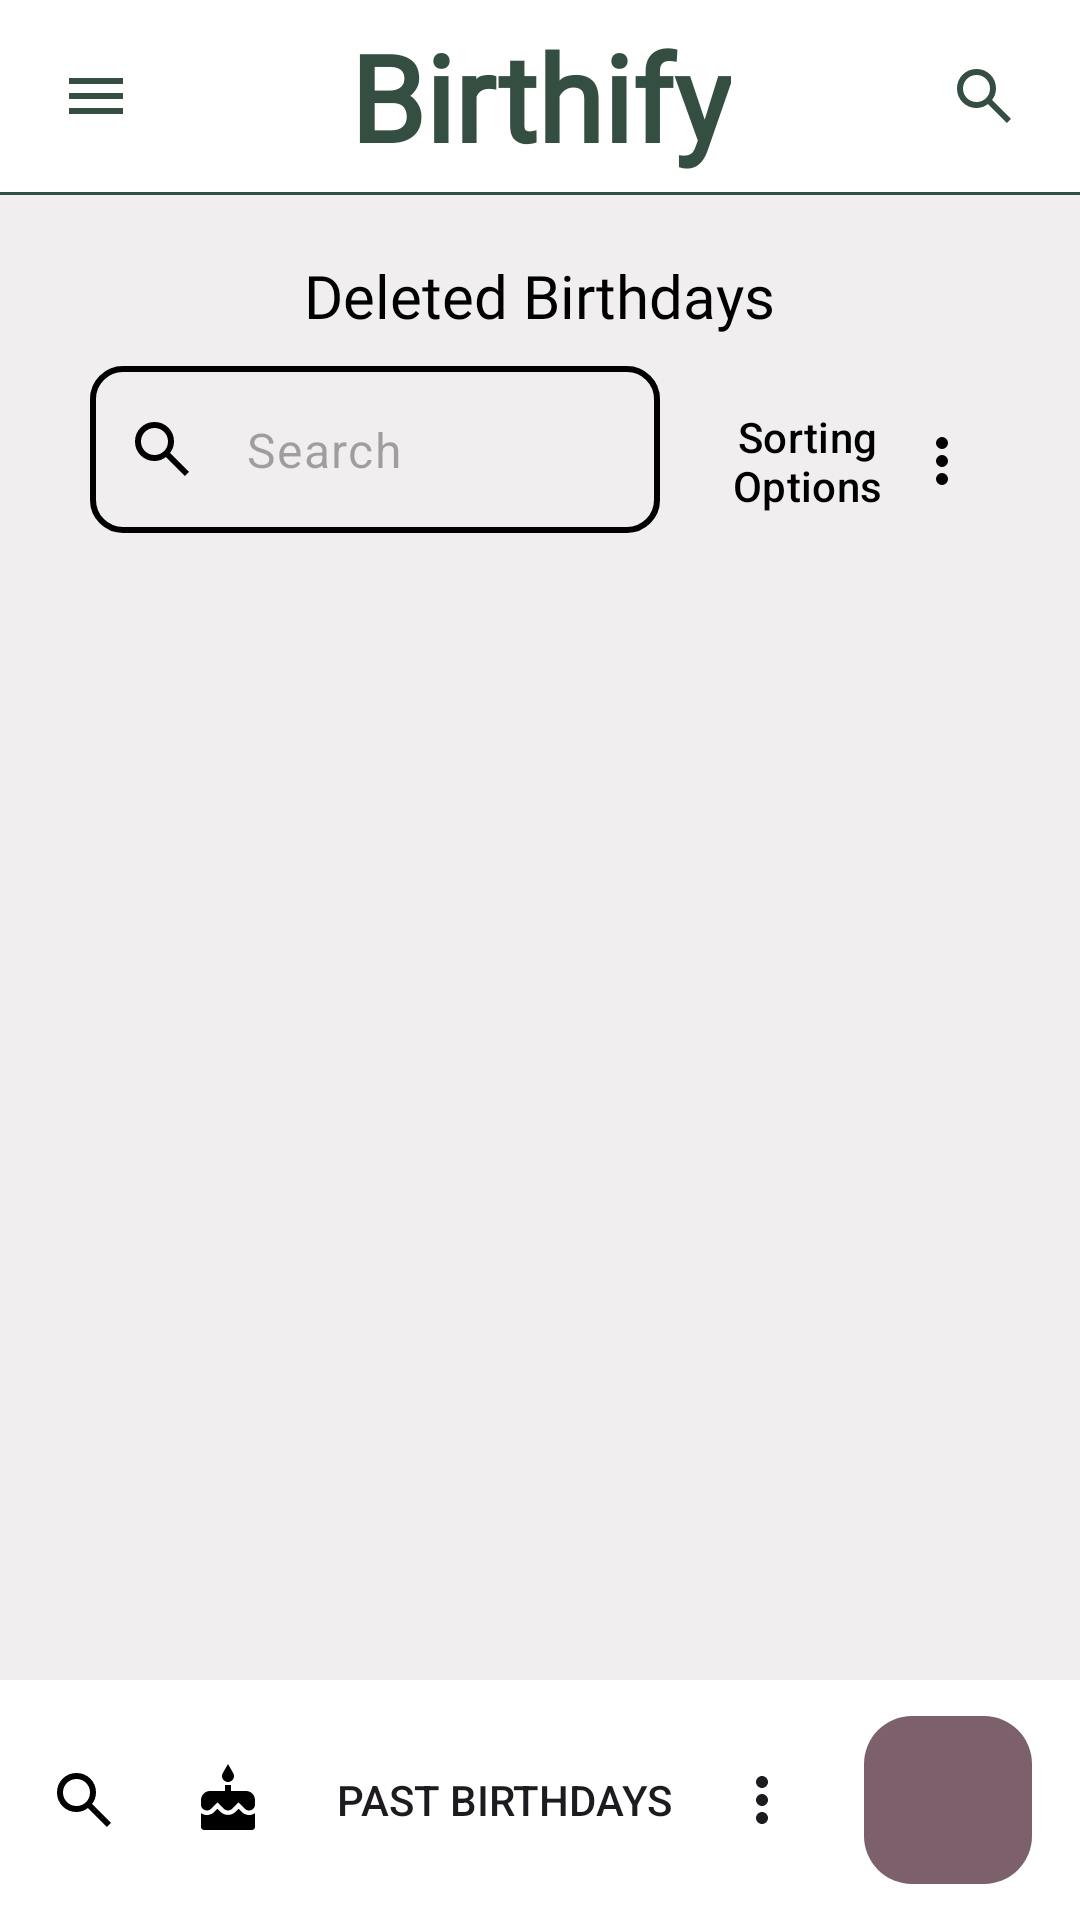

Where to tap for icons on this 1080 × 1920 app screen, as point (x, y):
Toolbar Menu Three Lines: point (96, 96)
